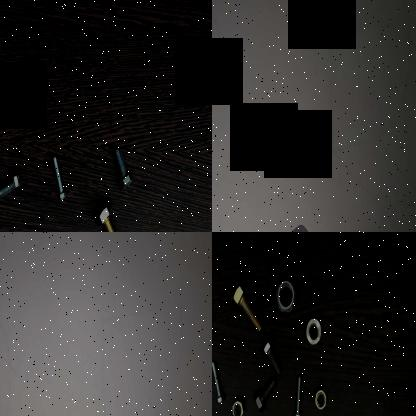Bolts: (43, 147, 71, 209), (230, 278, 262, 332), (108, 138, 133, 192), (90, 196, 126, 232), (0, 165, 26, 206), (251, 374, 275, 416), (260, 336, 281, 374), (293, 368, 304, 416)
NUTS: (274, 275, 298, 316), (302, 314, 323, 348), (312, 382, 326, 412), (229, 393, 243, 416)
